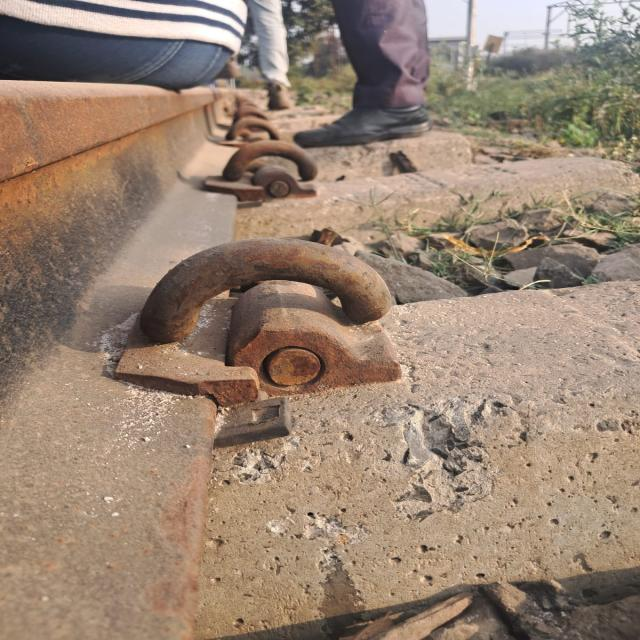overrailed: (145, 197, 436, 476)
